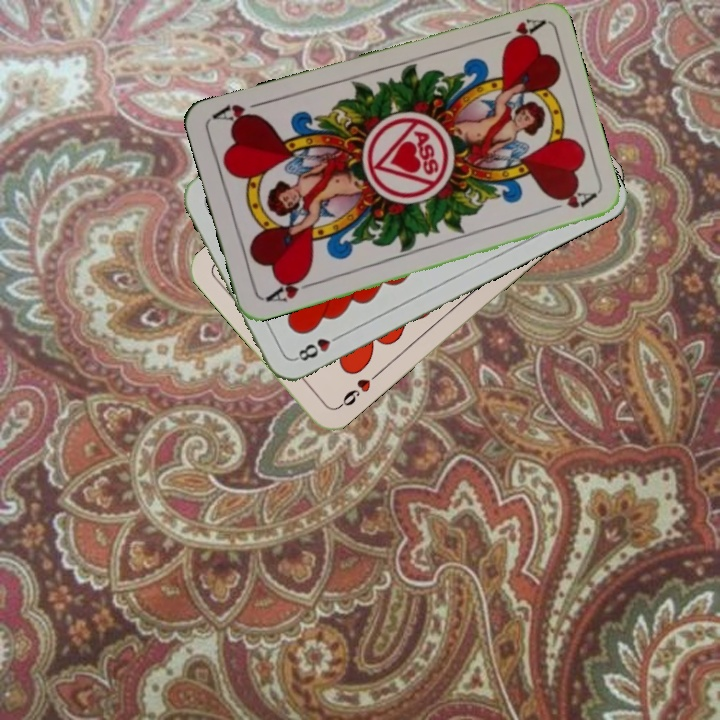H8: (291, 329, 346, 364)
H9: (333, 368, 382, 412)
HA: (261, 270, 318, 306), (487, 14, 545, 48)
